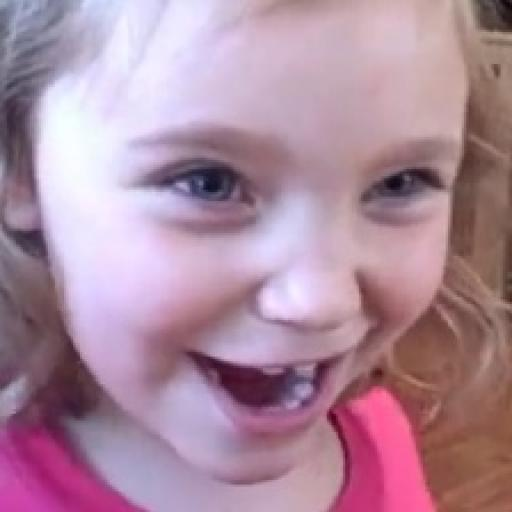Autism: (34, 0, 423, 464)
